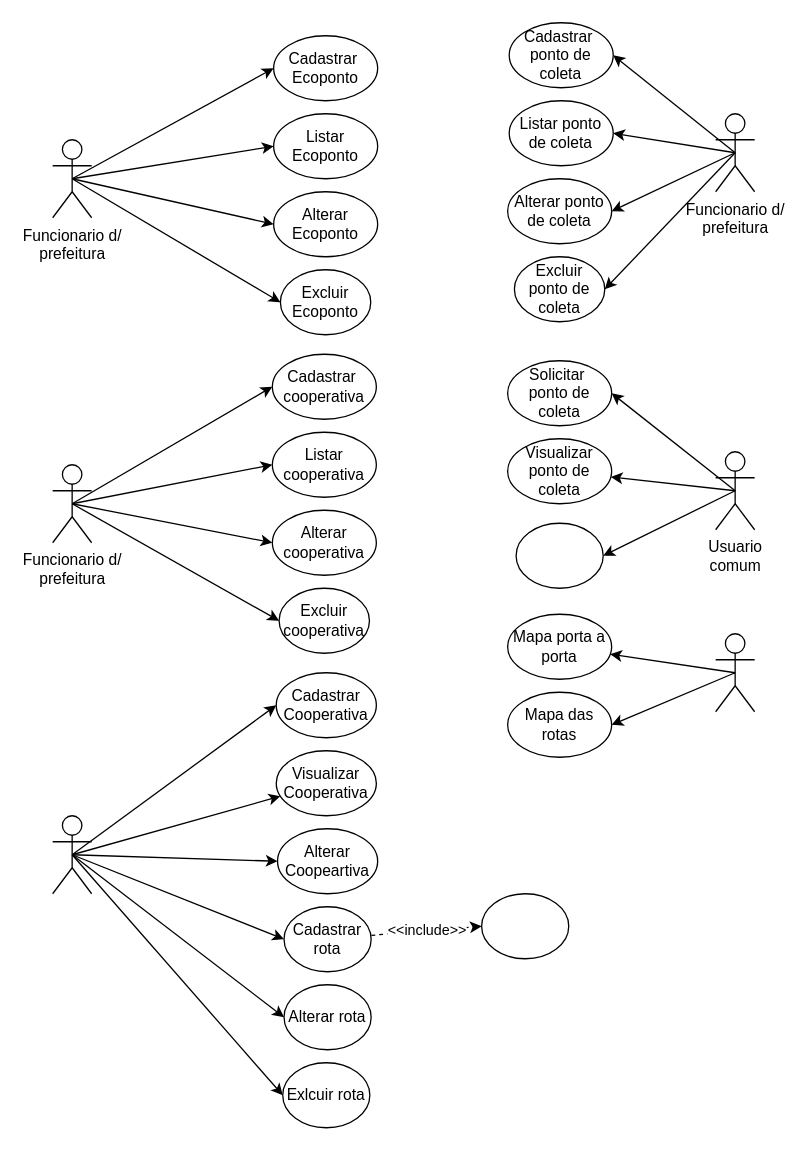
Some shapes in this 806 by 1151 pixel diagram are drawn without their labels. The centre of each missing label's shape, as x and y in pixels:
App: pixel 734 672
Cadastrar veiculo: pixel 524 925
Funcionario d/ cooperativa: pixel 71 854
Visualizar rotas: pixel 559 555
